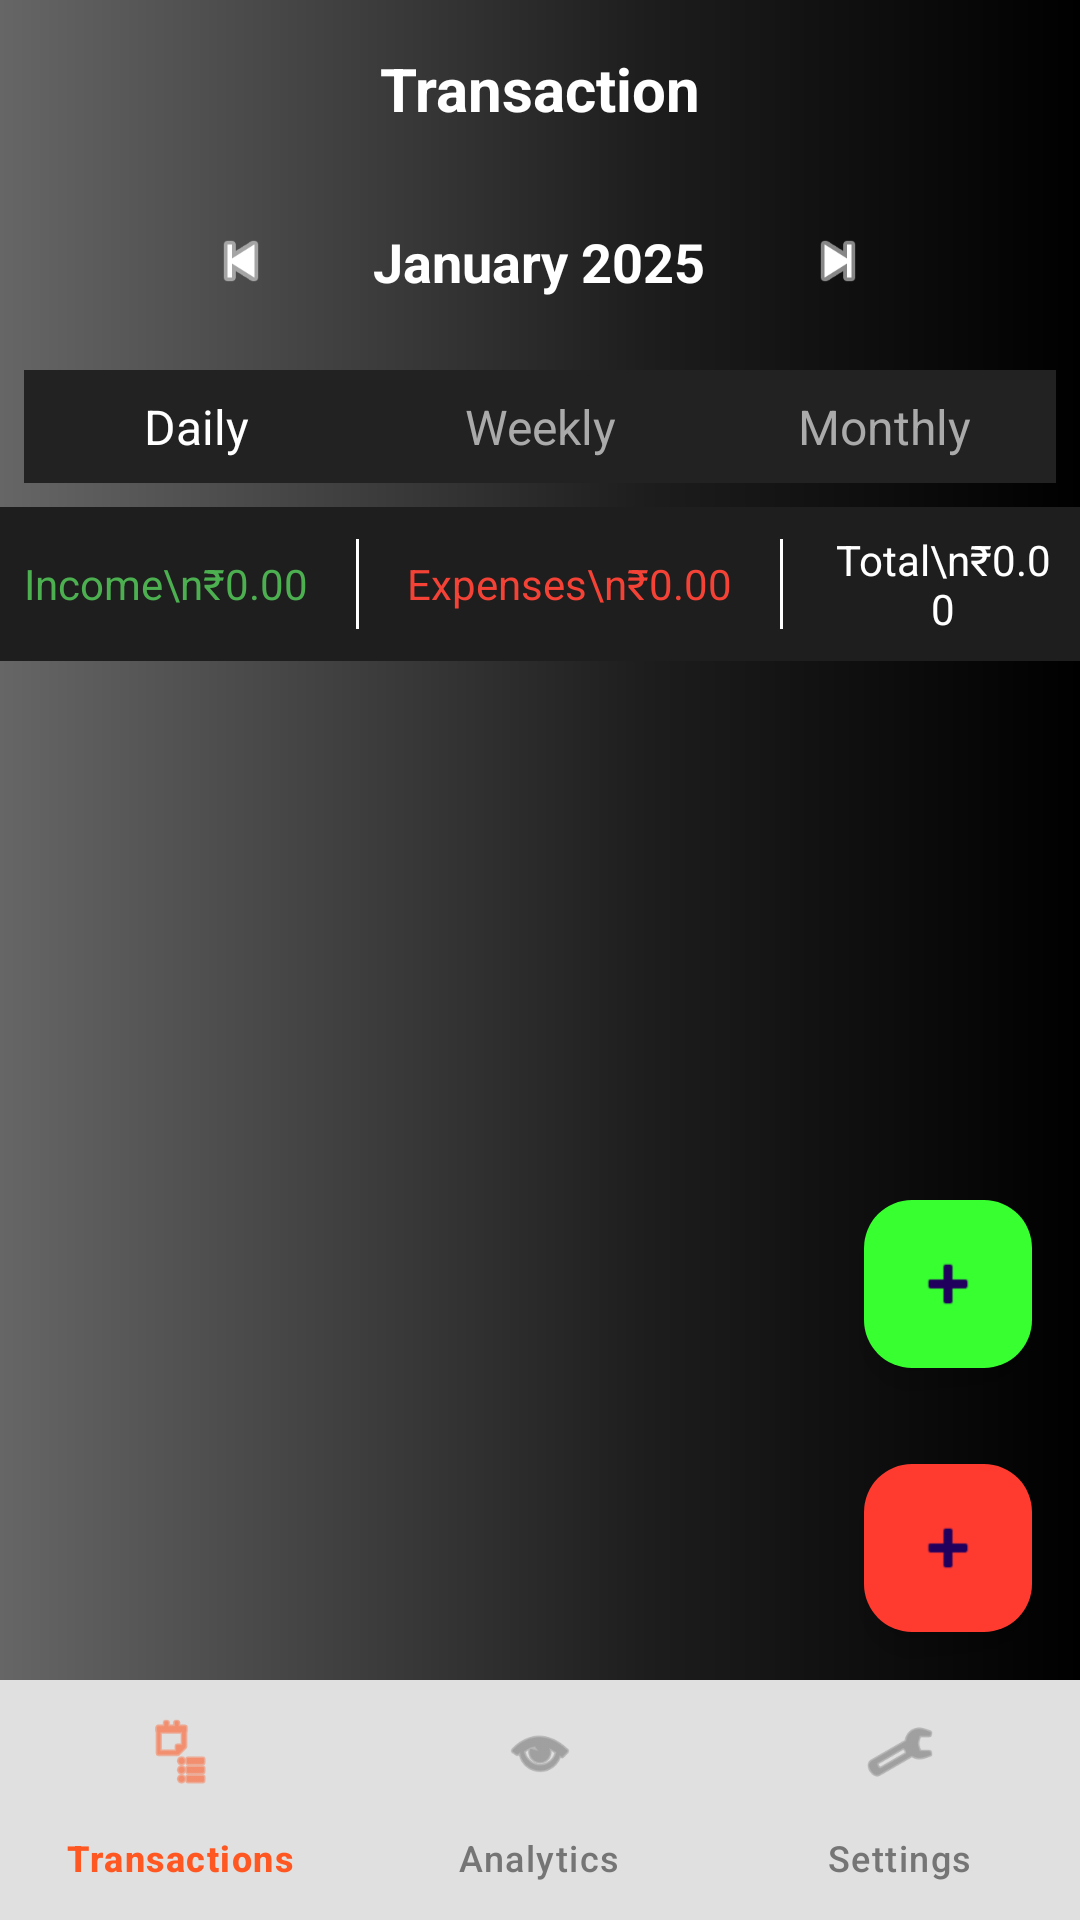

Locate icon controls on the screen. Image size 1080px×1920px, boxes as detection(x1, y1, x2, y2).
add: detection(864, 1200, 1032, 1368), detection(864, 1464, 1032, 1632)
Next Month: detection(821, 241, 855, 281)
Previous Month: detection(224, 241, 258, 281)
